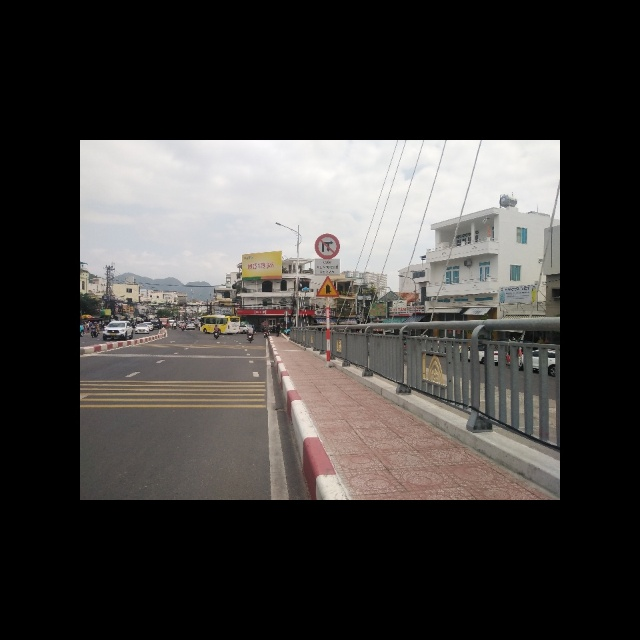Cấm quay đầu và rẽ phải: (315, 233, 340, 259)
Giao nhau với đường không ưu tiên: (315, 276, 339, 297)
